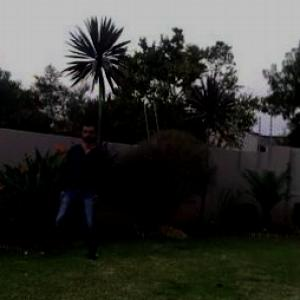follow: (66, 116, 108, 256)
